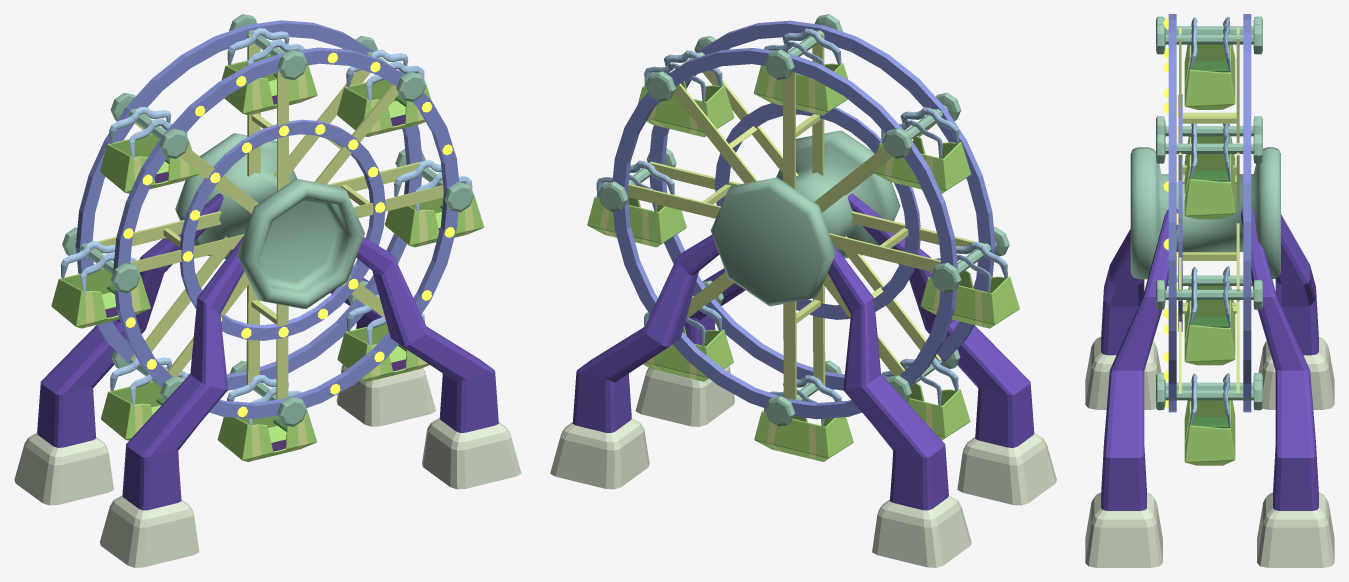
Rendered from fariyWheel_Bad.fbx.
The picture shows the model from 3 angles, left to right: view 1: azimuth 30°, elevation 25°; view 2: azimuth 150°, elevation 25°; view 3: azimuth 270°, elevation 25°; orthographic projection.
Visible parts, largest first — view 1: Sphere.032; view 2: Sphere.032; view 3: Sphere.032.
Part boxes in pixels (<box>): Sphere.032: <box>14,14,521,567</box>; Sphere.032: <box>550,14,1056,567</box>; Sphere.032: <box>1085,14,1334,567</box>.
Size of the model in its own units: 3264 by 3392 by 1716.
3 materials, 1 textured.
